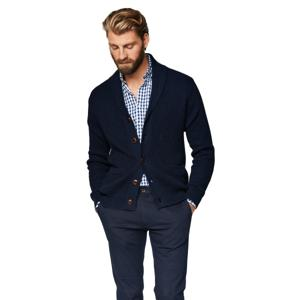C_cardigan sweater: (73, 60, 224, 208)
